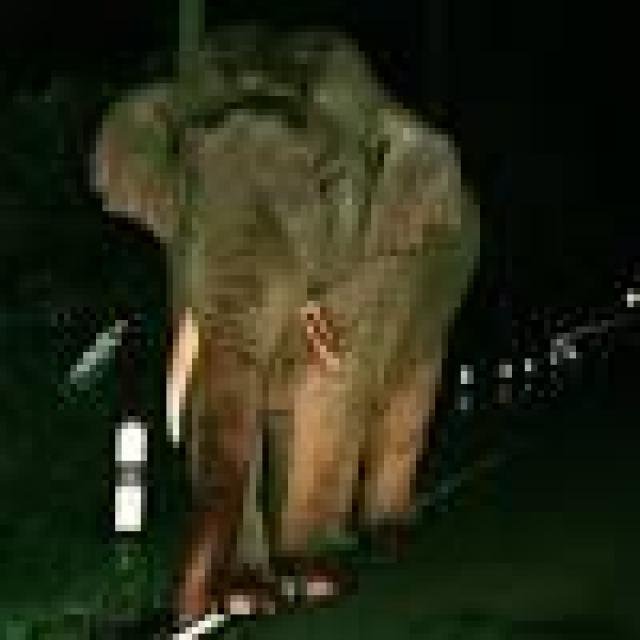Elephant: (77, 25, 480, 620)
